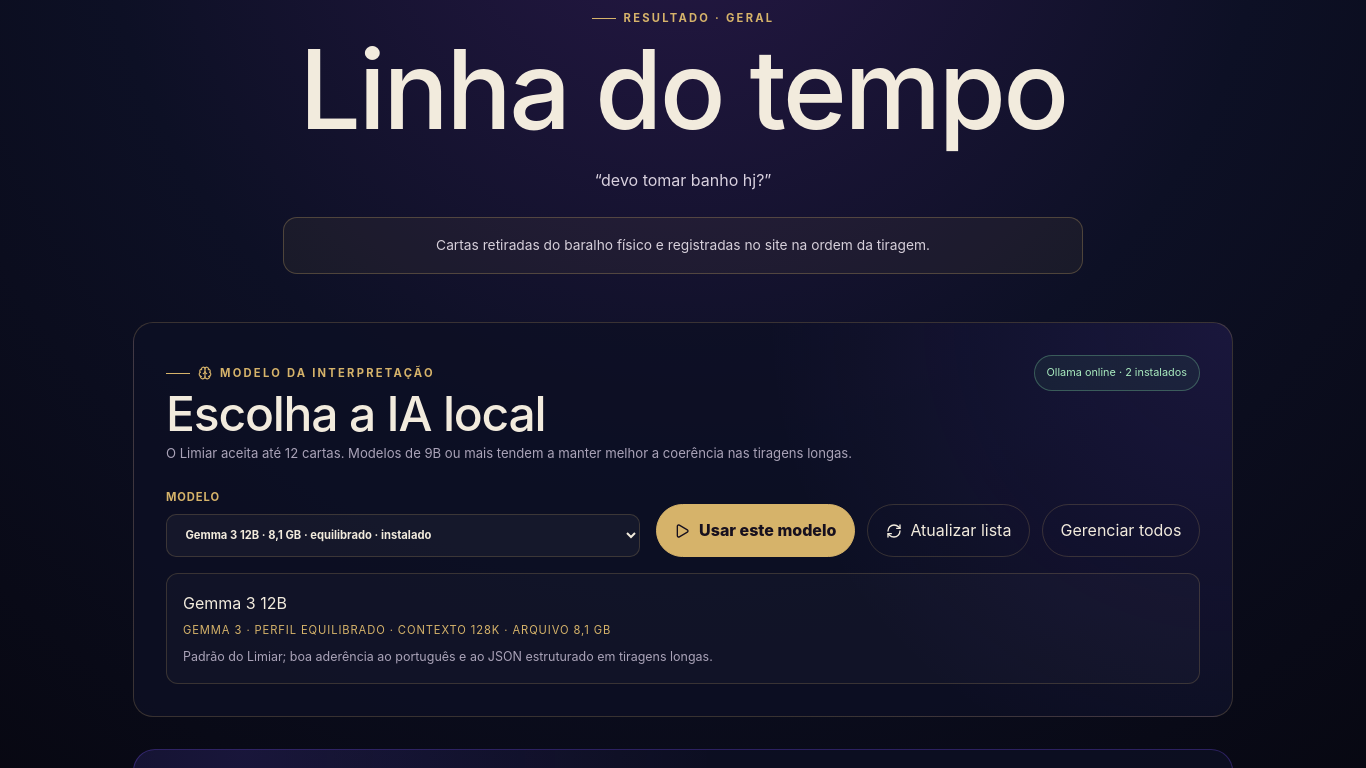
Test case: resultado de uma pergunta simples › mostra a resposta antes da análise e recolhe os detalhes extensos
Select "Qwen 3.5 9B · 6,6 GB · equilibrado · instalado" in the dropdown labelled "Modelo" at {"x": 403, "y": 535}, box [166,514,640,557]
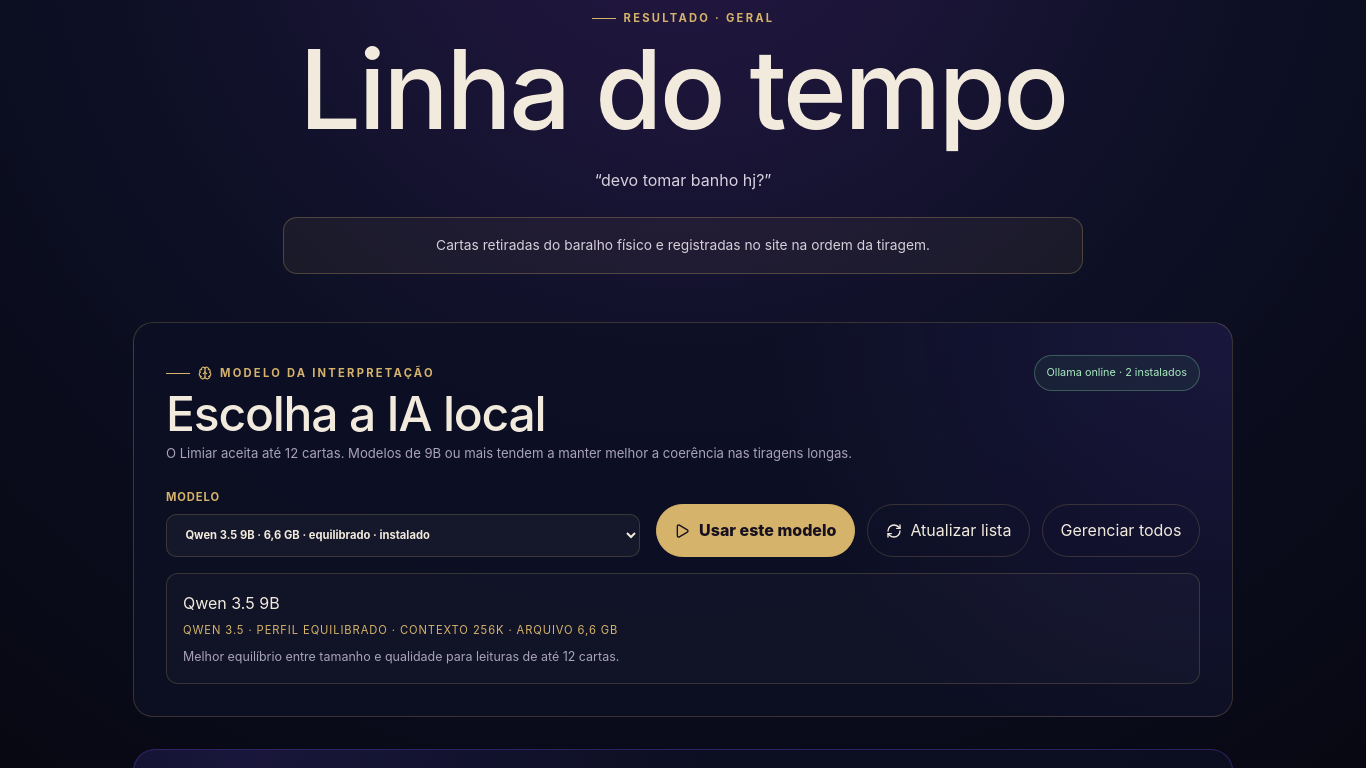
Click the button "Usar este modelo" at {"x": 755, "y": 531}, box [656,504,855,557]
(page scrolled)
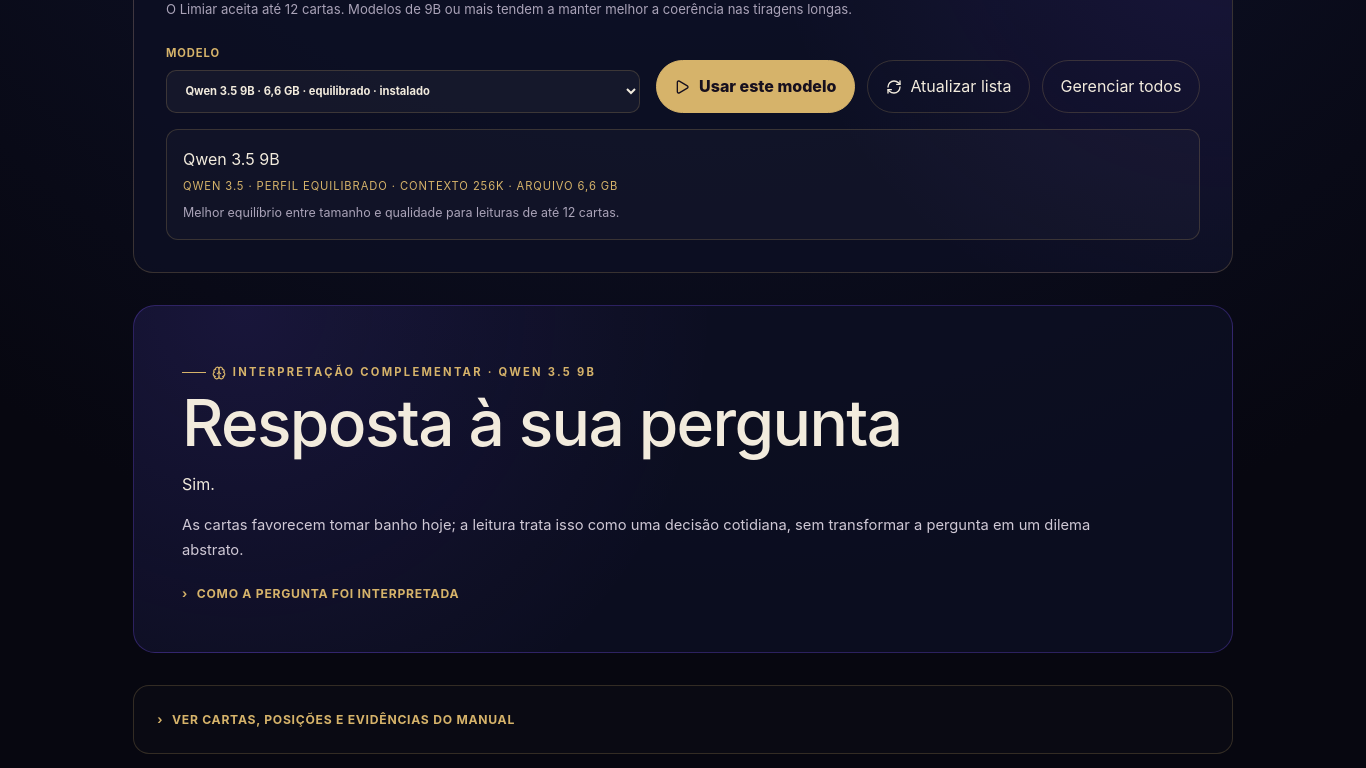
Expected: the text "Interpretação complementar · Qwen 3.5 9B" is shown, [182,364,596,382]
